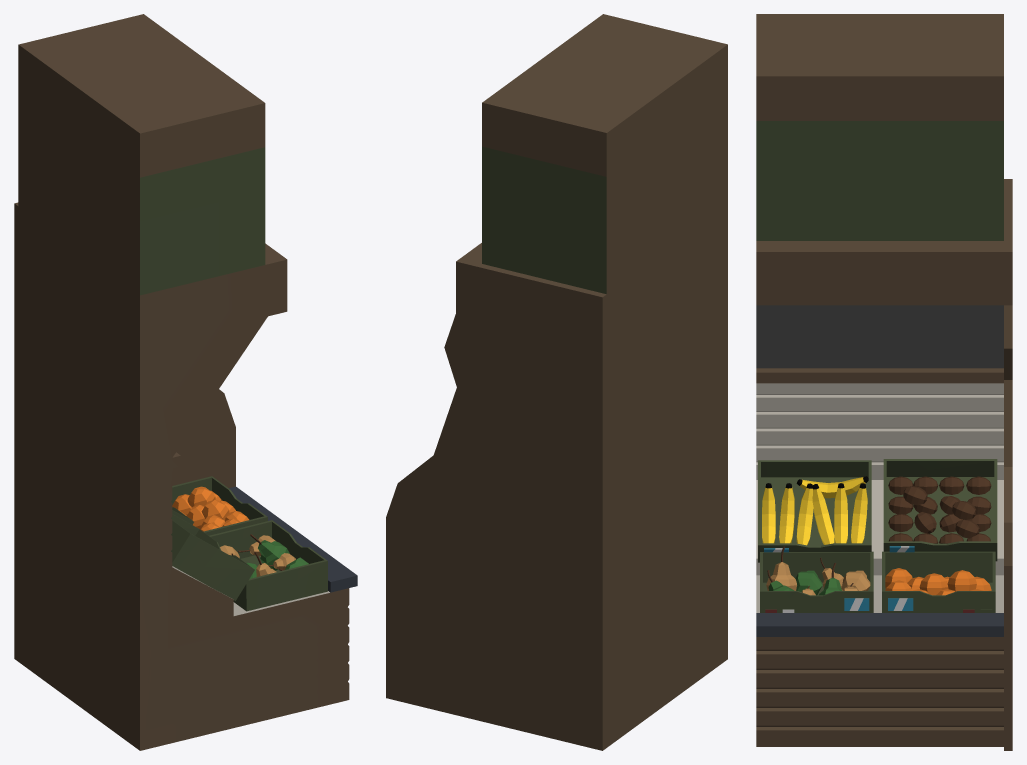
The model's file is SM_fruitShelve_06.glb.
3 renders of one model, left to right at view 1: azimuth 30°, elevation 25°; view 2: azimuth 150°, elevation 25°; view 3: azimuth 270°, elevation 25°, orthographic. The views are drawn at different scales.
Parts seen in each view (by area): view 1: SM_fruitShelve_06; view 2: SM_fruitShelve_06; view 3: SM_fruitShelve_06.
Part boxes in pixels (x1,y1,x2,y2): SM_fruitShelve_06: (14, 14, 357, 750); SM_fruitShelve_06: (386, 14, 727, 750); SM_fruitShelve_06: (756, 14, 1012, 750).
Size of the model in its own units: 1.03 by 2.8 by 1.03.
Materials: 2 (2 with a texture image).
